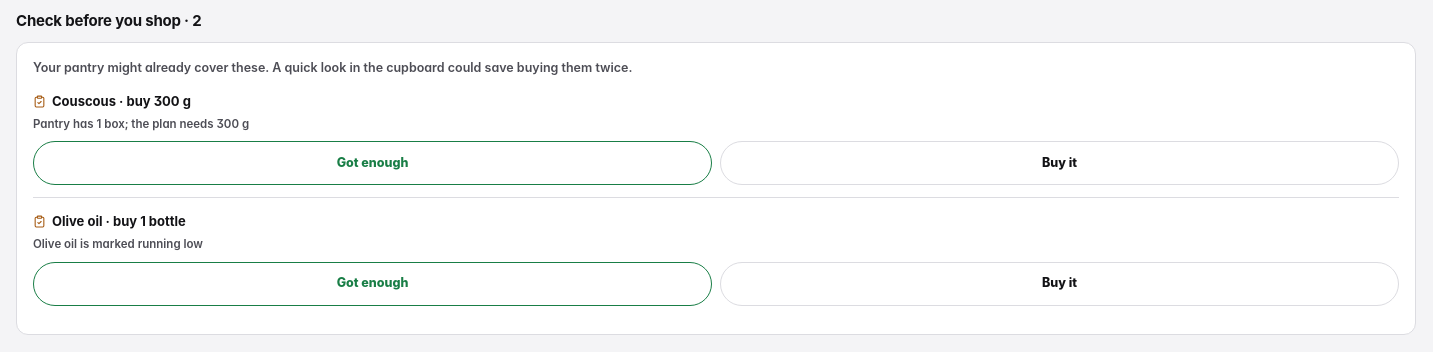
Test: Check before you shop card › "Buy it" keeps the row and the card stops asking about it
Step 1. Click the button with aria-label "Buy Olive oil" → (1060, 284), box [720,262,1399,306]
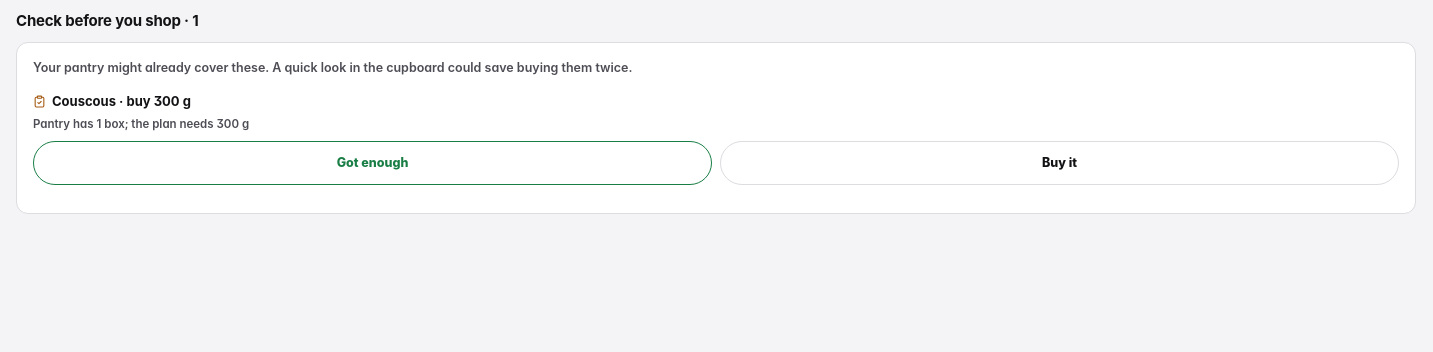
expect the text "Olive oil is marked running low" is gone: met
